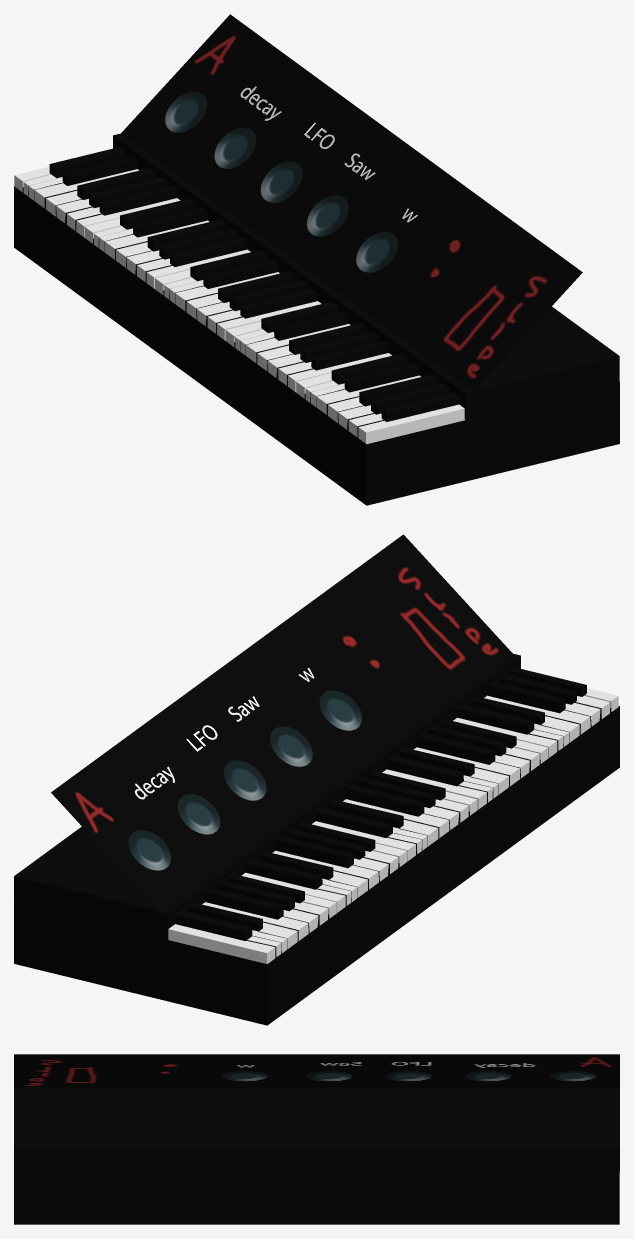
File: synth2.fbx
3 renders of one model, top to bottom at view 1: azimuth 30°, elevation 25°; view 2: azimuth 150°, elevation 25°; view 3: azimuth 270°, elevation 25°, orthographic. The views are drawn at different scales.
Visible parts, largest first — view 1: synth2; view 2: synth2; view 3: synth2.
Part boxes in pixels (x1,y1,x2,y2): synth2: [14, 14, 619, 505]; synth2: [14, 534, 619, 1025]; synth2: [14, 1054, 619, 1224].
Size of the model in its own units: 2.66 by 1.81 by 6.41.
1 material, 1 textured.
